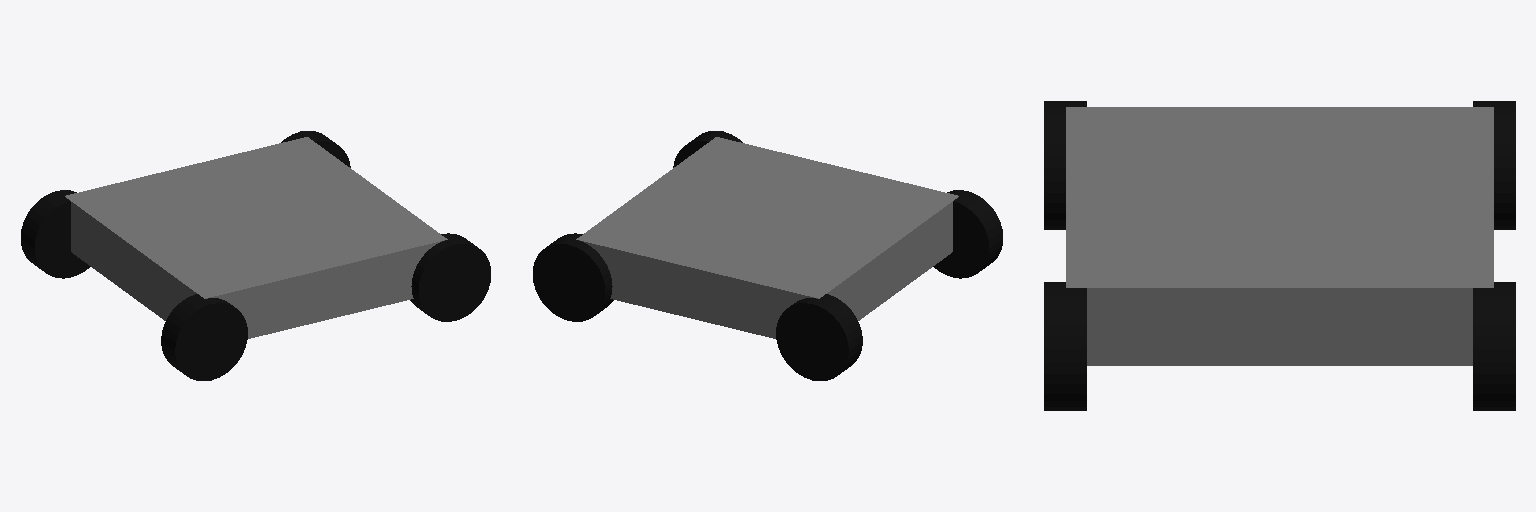
URDF robot description (omni_bot):
<?xml version="1.0"?>
<robot name="omni_bot">

  <!-- Material Definitions -->
  <material name="gray">
    <color rgba="0.5 0.5 0.5 1"/>
  </material>
  <material name="black">
    <color rgba="0.1 0.1 0.1 1"/>
  </material>

  <!-- Base Link -->
  <link name="base_footprint">
    <inertial>
      <origin xyz="0 0 0" rpy="0 0 0"/>
      <mass value="5.0"/>
      <inertia ixx="0.052" ixy="0.0" ixz="0.0" iyy="0.052" iyz="0.0" izz="0.01"/>
    </inertial>
    <visual>
      <origin xyz="0 0 0.05" rpy="0 0 0"/>
      <geometry>
        <box size="0.5 0.5 0.1"/>
      </geometry>
      <material name="gray"/>
    </visual>
    <collision>
      <origin xyz="0 0 0.05" rpy="0 0 0"/>
      <geometry>
        <box size="0.5 0.5 0.1"/>
      </geometry>
    </collision>
  </link>

  <!-- Wheel Links (with correct orientation) -->
  <link name="wheel_front_left">
    <inertial>
      <origin xyz="0 0 0" rpy="1.5708 0 0"/>
      <mass value="0.3"/>
      <inertia ixx="0.0002" ixy="0.0" ixz="0.0" iyy="0.0002" iyz="0.0" izz="0.0001"/>
    </inertial>
    <visual>
      <origin xyz="0 0 0" rpy="1.5708 0 0"/>
      <geometry>
        <cylinder length="0.05" radius="0.075"/>
      </geometry>
      <material name="black"/>
    </visual>
    <collision>
      <origin xyz="0 0 0" rpy="1.5708 0 0"/>
      <geometry>
        <cylinder length="0.05" radius="0.075"/>
      </geometry>
    </collision>
  </link>

  <link name="wheel_front_right">
    <inertial>
      <origin xyz="0 0 0" rpy="1.5708 0 0"/>
      <mass value="0.3"/>
      <inertia ixx="0.0002" ixy="0.0" ixz="0.0" iyy="0.0002" iyz="0.0" izz="0.0001"/>
    </inertial>
    <visual>
      <origin xyz="0 0 0" rpy="1.5708 0 0"/>
      <geometry>
        <cylinder length="0.05" radius="0.075"/>
      </geometry>
      <material name="black"/>
    </visual>
    <collision>
      <origin xyz="0 0 0" rpy="1.5708 0 0"/>
      <geometry>
        <cylinder length="0.05" radius="0.075"/>
      </geometry>
    </collision>
  </link>

  <link name="wheel_back_left">
    <inertial>
      <origin xyz="0 0 0" rpy="1.5708 0 0"/>
      <mass value="0.3"/>
      <inertia ixx="0.0002" ixy="0.0" ixz="0.0" iyy="0.0002" iyz="0.0" izz="0.0001"/>
    </inertial>
    <visual>
      <origin xyz="0 0 0" rpy="1.5708 0 0"/>
      <geometry>
        <cylinder length="0.05" radius="0.075"/>
      </geometry>
      <material name="black"/>
    </visual>
    <collision>
      <origin xyz="0 0 0" rpy="1.5708 0 0"/>
      <geometry>
        <cylinder length="0.05" radius="0.075"/>
      </geometry>
    </collision>
  </link>

  <link name="wheel_back_right">
    <inertial>
      <origin xyz="0 0 0" rpy="1.5708 0 0"/>
      <mass value="0.3"/>
      <inertia ixx="0.0002" ixy="0.0" ixz="0.0" iyy="0.0002" iyz="0.0" izz="0.0001"/>
    </inertial>
    <visual>
      <origin xyz="0 0 0" rpy="1.5708 0 0"/>
      <geometry>
        <cylinder length="0.05" radius="0.075"/>
      </geometry>
      <material name="black"/>
    </visual>
    <collision>
      <origin xyz="0 0 0" rpy="1.5708 0 0"/>
      <geometry>
        <cylinder length="0.05" radius="0.075"/>
      </geometry>
    </collision>
  </link>

  <!-- Joints -->
  <joint name="wheel_front_left_joint" type="continuous">
    <parent link="base_footprint"/>
    <child link="wheel_front_left"/>
    <origin xyz="0.25 0.25 0.025" rpy="0 0 0"/>
    <axis xyz="0 1 0"/>
  </joint>
  <joint name="wheel_front_right_joint" type="continuous">
    <parent link="base_footprint"/>
    <child link="wheel_front_right"/>
    <origin xyz="0.25 -0.25 0.025" rpy="0 0 0"/>
    <axis xyz="0 1 0"/>
  </joint>
  <joint name="wheel_back_left_joint" type="continuous">
    <parent link="base_footprint"/>
    <child link="wheel_back_left"/>
    <origin xyz="-0.25 0.25 0.025" rpy="0 0 0"/>
    <axis xyz="0 1 0"/>
  </joint>
  <joint name="wheel_back_right_joint" type="continuous">
    <parent link="base_footprint"/>
    <child link="wheel_back_right"/>
    <origin xyz="-0.25 -0.25 0.025" rpy="0 0 0"/>
    <axis xyz="0 1 0"/>
  </joint>

  <!-- Gazebo Plugin for Omnidirectional Drive -->
  <gazebo>
    <plugin name="rosa_controller" filename="libgazebo_ros_omni_drive.so">
      <ros>
        <namespace>/omni_bot</namespace>
        <remapping>cmd_vel:=/omni_bot/cmd_vel</remapping>
        <remapping>odom:=/omni_bot/odom</remapping>
      </ros>
      <commandTopic>/omni_bot/cmd_vel</commandTopic>
      <odometryTopic>/omni_bot/odom</odometryTopic>
      <odometryFrame>odom</odometryFrame>
      <odometryRate>20.0</odometryRate>
      <robotBaseFrame>base_footprint</robotBaseFrame>
      <wheel_radius>0.075</wheel_radius>
      <base_length>0.5</base_length>
      <base_width>0.5</base_width>
      <front_left_joint>wheel_front_left_joint</front_left_joint>
      <front_right_joint>wheel_front_right_joint</front_right_joint>
      <rear_left_joint>wheel_back_left_joint</rear_left_joint>
      <rear_right_joint>wheel_back_right_joint</rear_right_joint>
      <wheel_max_speed>20.0</wheel_max_speed>
      <wheel_acceleration>10.0</wheel_acceleration>
      <joint_config>1 1 -1 -1</joint_config>
    </plugin>
  </gazebo>

</robot>

--- Facts derived from the render (not from the file) ---
Views: 3 orthographic renders of the robot side by side, from view 1: azimuth 30°, elevation 25°; view 2: azimuth 150°, elevation 25°; view 3: azimuth 270°, elevation 25°.
Robot: omni_bot — 5 links, 4 joints (4 continuous); root link base_footprint; default pose: all joints at 0.
Visible links, largest first — view 1: base_footprint, wheel_back_right, wheel_front_right, wheel_back_left, wheel_front_left; view 2: base_footprint, wheel_back_left, wheel_front_left, wheel_back_right, wheel_front_right; view 3: base_footprint, wheel_front_left, wheel_front_right, wheel_back_left, wheel_back_right.
Boxes of the visible links, x1,y1,x2,y2 form: base_footprint: (65,137,447,338); wheel_back_right: (161,294,247,380); wheel_front_right: (410,233,490,321); wheel_back_left: (21,190,90,278); wheel_front_left: (281,131,350,167); base_footprint: (576,137,958,338); wheel_back_left: (776,294,862,380); wheel_front_left: (533,233,613,321); wheel_back_right: (933,190,1002,278); wheel_front_right: (673,131,742,167); base_footprint: (1066,107,1493,365); wheel_front_left: (1473,282,1515,410); wheel_front_right: (1044,282,1086,410); wheel_back_left: (1473,101,1515,229); wheel_back_right: (1044,101,1086,229).
Size in the robot's own frame: 0.65 by 0.55 by 0.15 metres.
Geometry: primitives only (box / cylinder / sphere), no mesh files.
